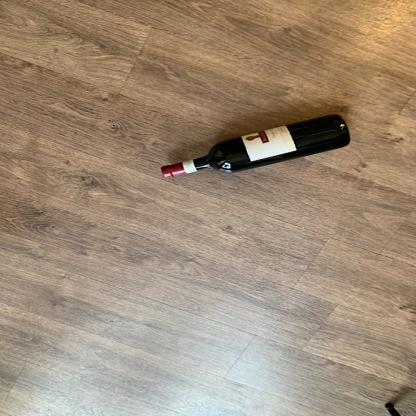trash: (160, 112, 352, 183)
